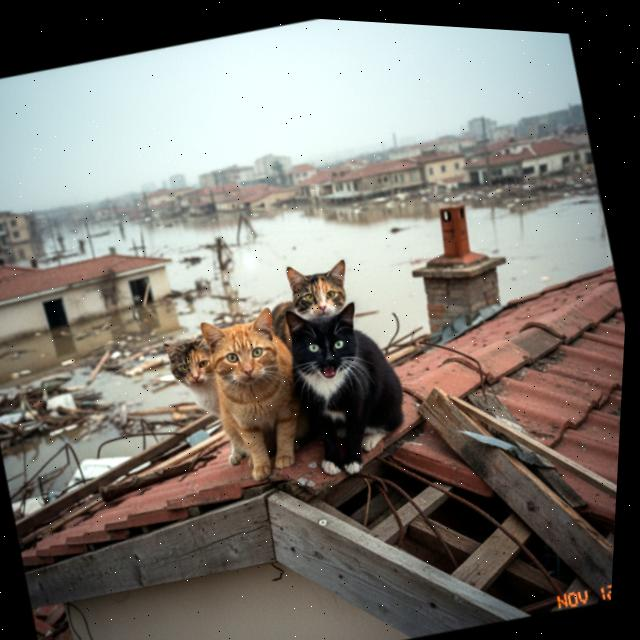cat: (184, 287, 340, 498), (266, 281, 425, 481), (147, 321, 273, 484), (255, 240, 375, 349)
